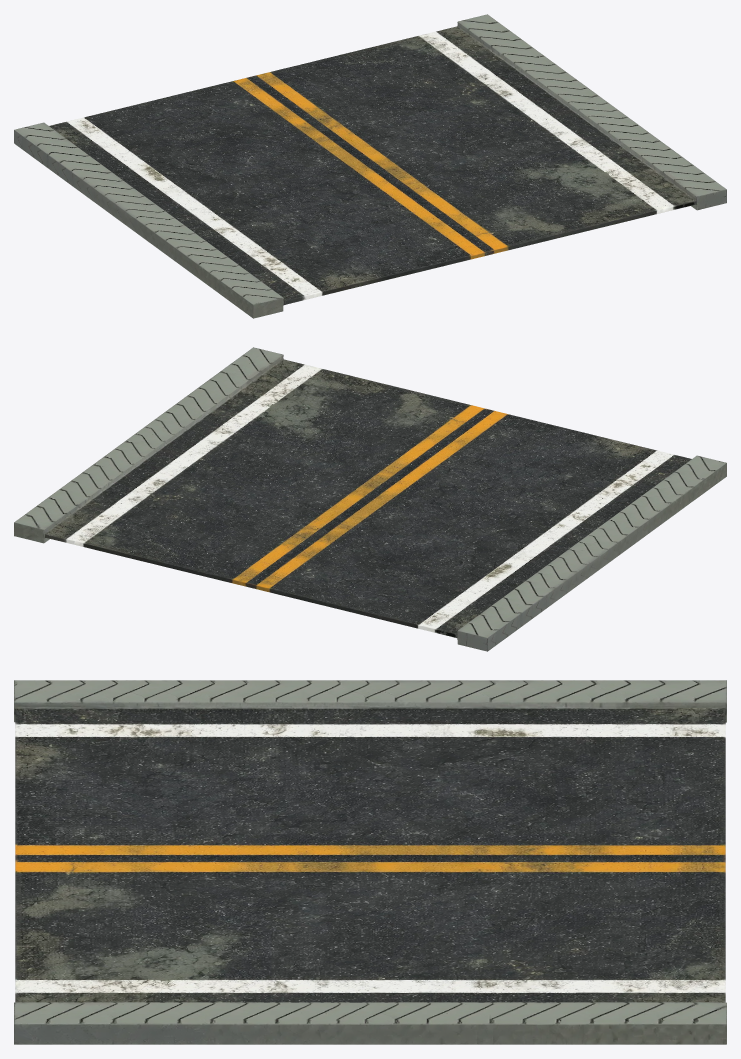
Rendered from pista2_DKB.glb.
3 renders of one model, top to bottom at view 1: azimuth 30°, elevation 25°; view 2: azimuth 150°, elevation 25°; view 3: azimuth 270°, elevation 25°, orthographic. The views are drawn at different scales.
Visible parts, largest first — view 1: mesh_node; view 2: mesh_node; view 3: mesh_node.
Part boxes in pixels (x1=…): mesh_node: x1=14, y1=14, x2=726, y2=318; mesh_node: x1=14, y1=347, x2=726, y2=651; mesh_node: x1=14, y1=680, x2=726, y2=1044.
Bounding box in the file's own units: 1.9 × 0.0532 × 1.66.
1 material, 1 textured.
